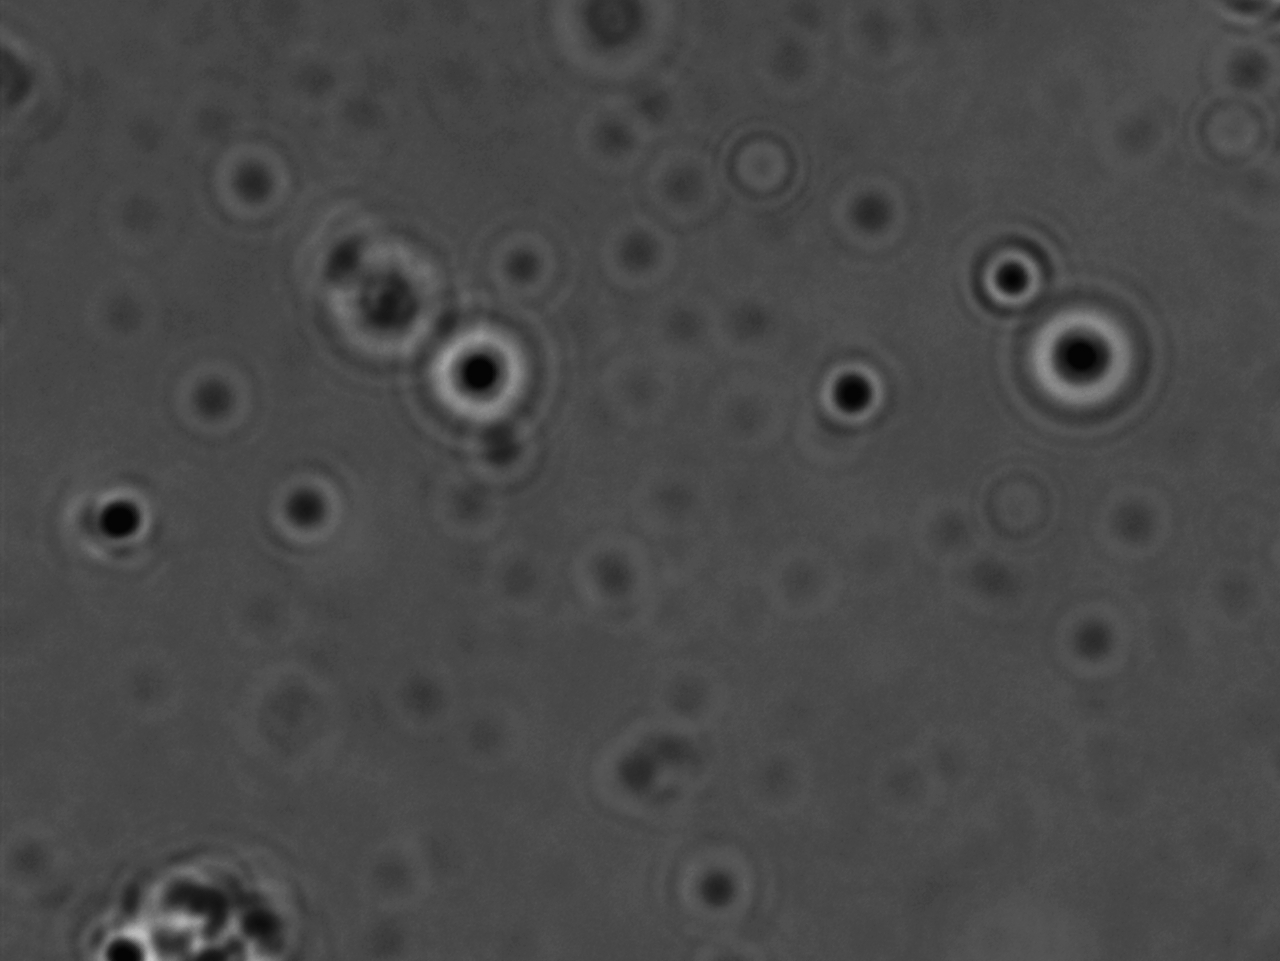depth:-24: (402, 311, 558, 459), (1005, 287, 1156, 437)
